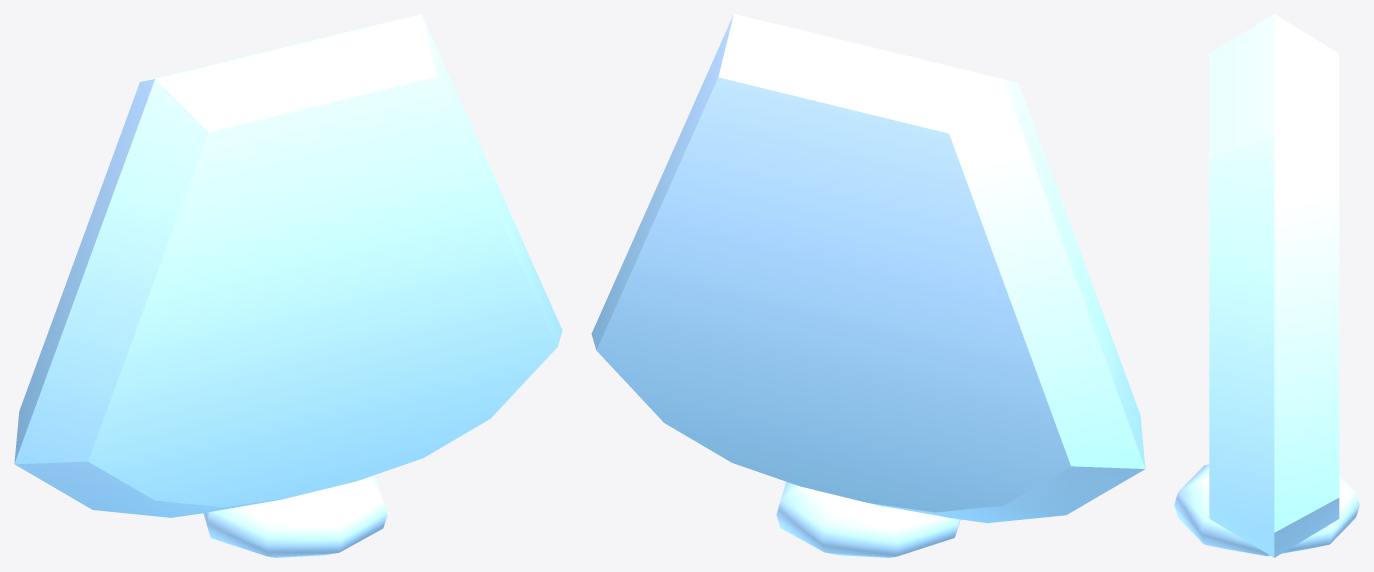
File: steel_pommel_091.glb
3 renders of one model, left to right at view 1: azimuth 30°, elevation 25°; view 2: azimuth 150°, elevation 25°; view 3: azimuth 270°, elevation 25°, orthographic. The views are drawn at different scales.
Parts seen in each view (by area): view 1: steel_pommel_091; view 2: steel_pommel_091; view 3: steel_pommel_091.
Part boxes in pixels (<box>): steel_pommel_091: <box>14,14,562,557</box>; steel_pommel_091: <box>591,14,1145,557</box>; steel_pommel_091: <box>1174,14,1359,557</box>.
Size of the model in its own units: 3.29 by 2.77 by 1.02.
Materials: 1 (1 with a texture image).
